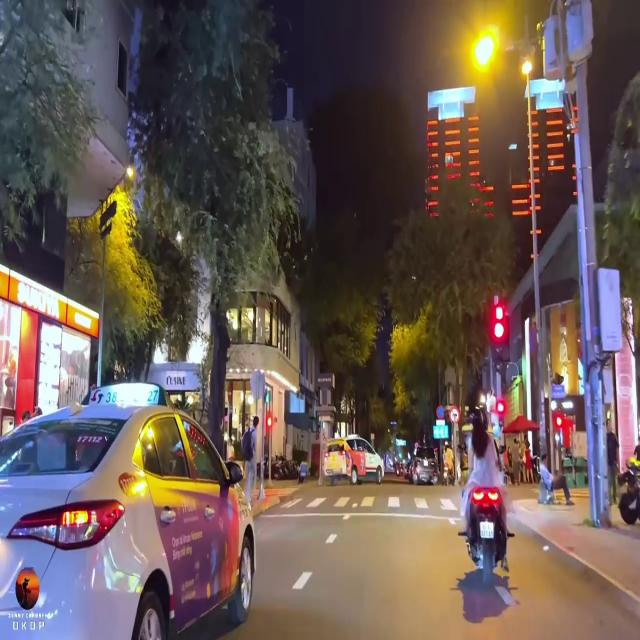bien_trang: (479, 519, 495, 542)
